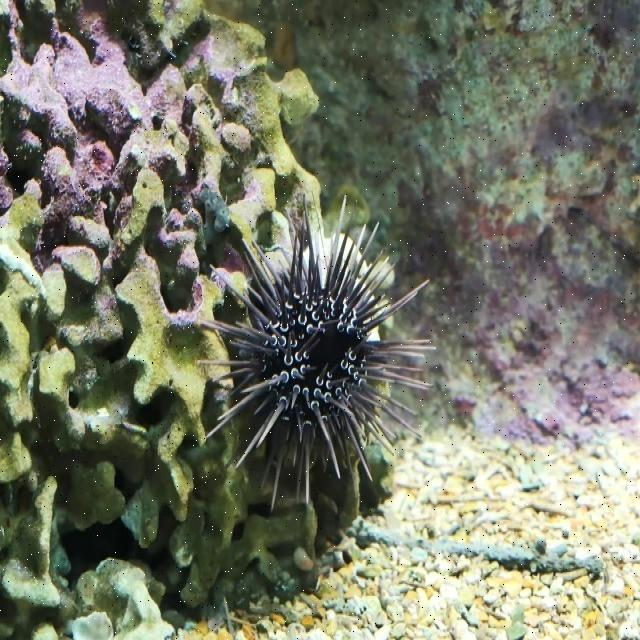reefs: (194, 188, 440, 513)
